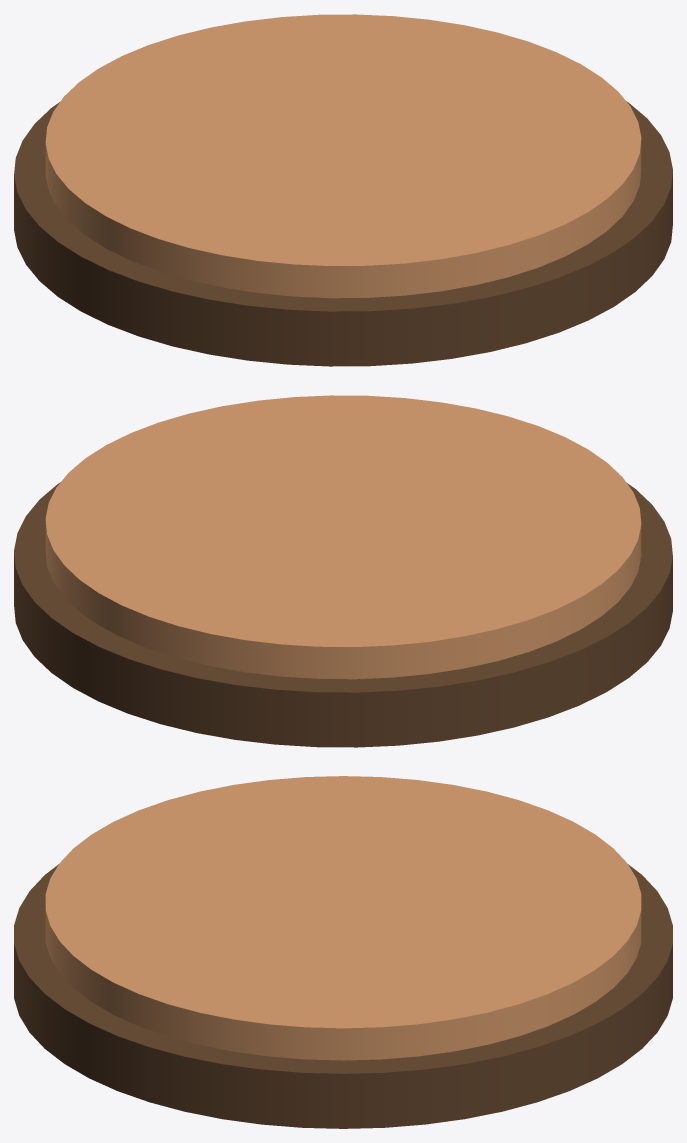
Rendered from Base-Brown.fbx.
3 views of the same model, one above another, from view 1: azimuth 30°, elevation 25°; view 2: azimuth 150°, elevation 25°; view 3: azimuth 270°, elevation 25° (orthographic).
Visible parts, largest first — view 1: pCylinder5; view 2: pCylinder5; view 3: pCylinder5.
Part boxes in pixels (x1,y1,x2,y2): pCylinder5: (14,14,672,366); pCylinder5: (14,395,672,747); pCylinder5: (14,776,672,1128).
Size of the model in its own units: 7.53 by 1.1 by 7.51.
